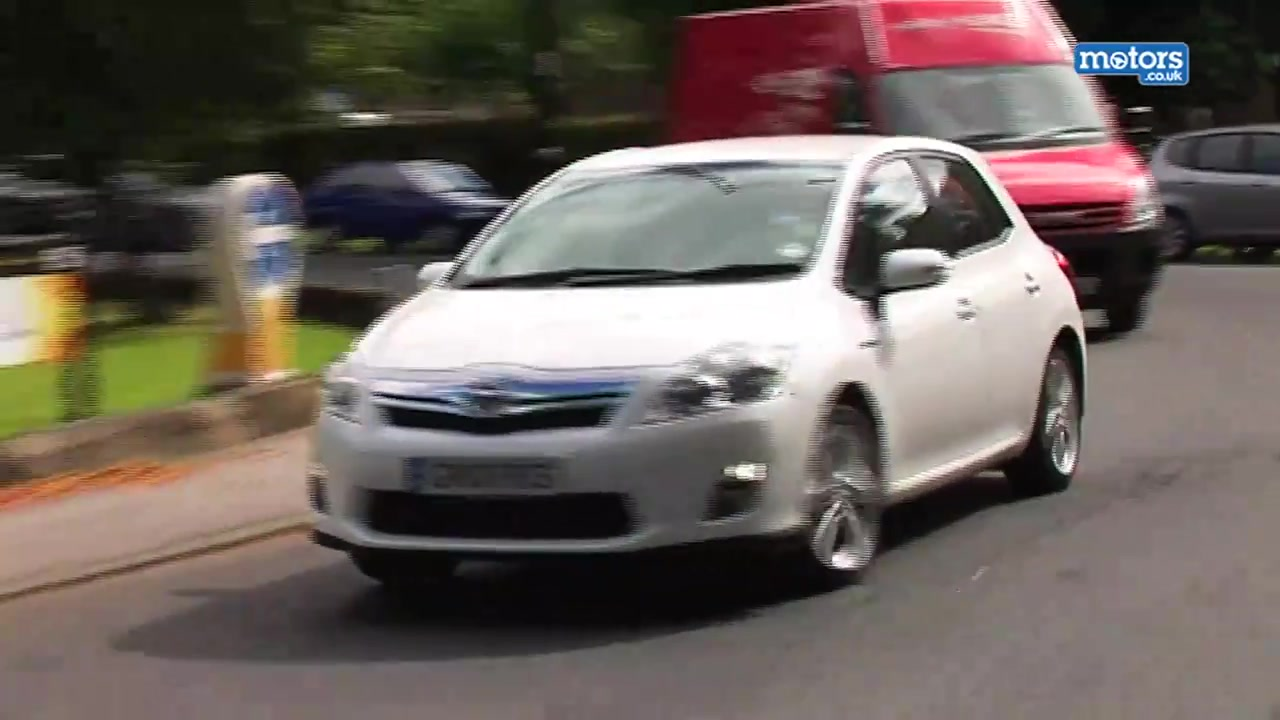car: (306, 139, 1090, 598), (659, 1, 1166, 342), (311, 155, 521, 252), (1147, 116, 1280, 266)
